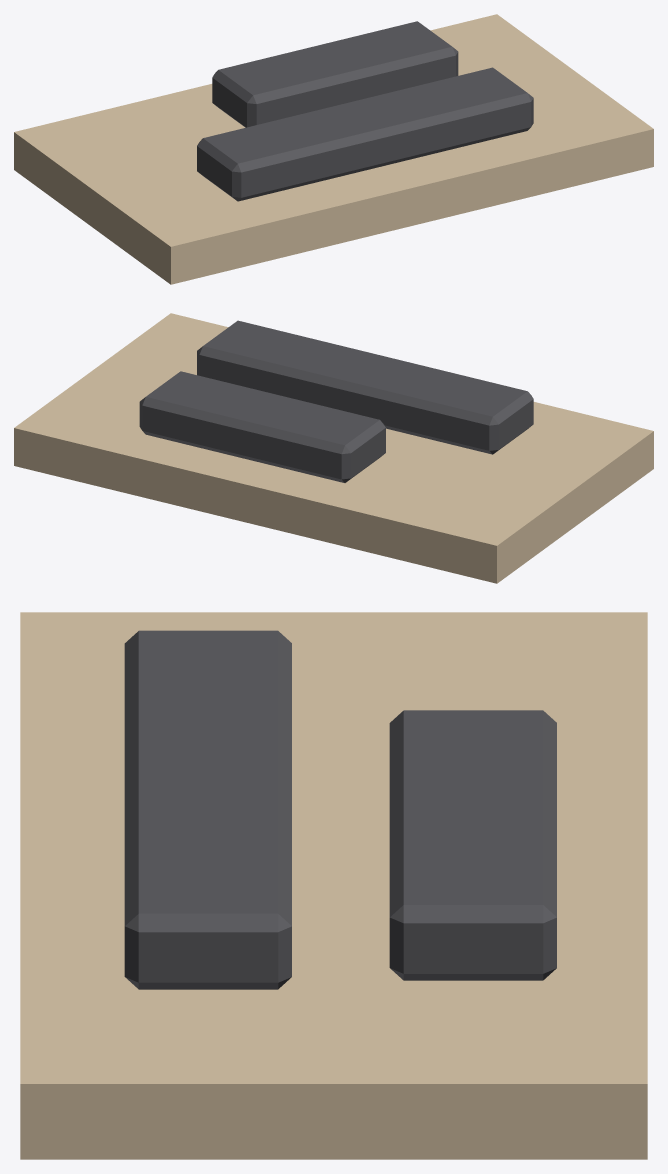
File: prop-ink-stick-blank.fbx
3 renders of one model, top to bottom at view 1: azimuth 30°, elevation 25°; view 2: azimuth 150°, elevation 25°; view 3: azimuth 270°, elevation 25°, orthographic. The views are drawn at different scales.
Visible parts, largest first — view 1: prop-ink-stick-blank; view 2: prop-ink-stick-blank; view 3: prop-ink-stick-blank.
Boxes of the visible parts, x1,y1,x2,y2 form: prop-ink-stick-blank: (14,14,653,284); prop-ink-stick-blank: (14,313,653,583); prop-ink-stick-blank: (20,612,647,1159).
Size of the model in its own units: 16 by 2.4 by 9.
